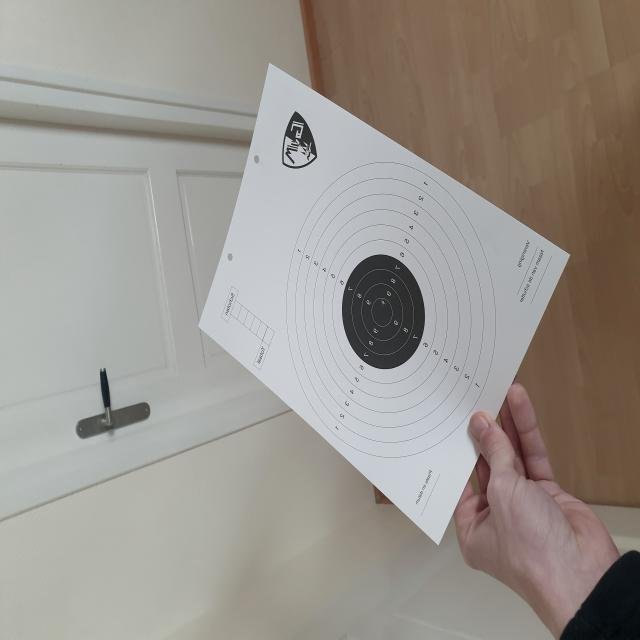10: (380, 298, 386, 307)
Target: (284, 162, 498, 458)
black_contour: (342, 254, 425, 369)
